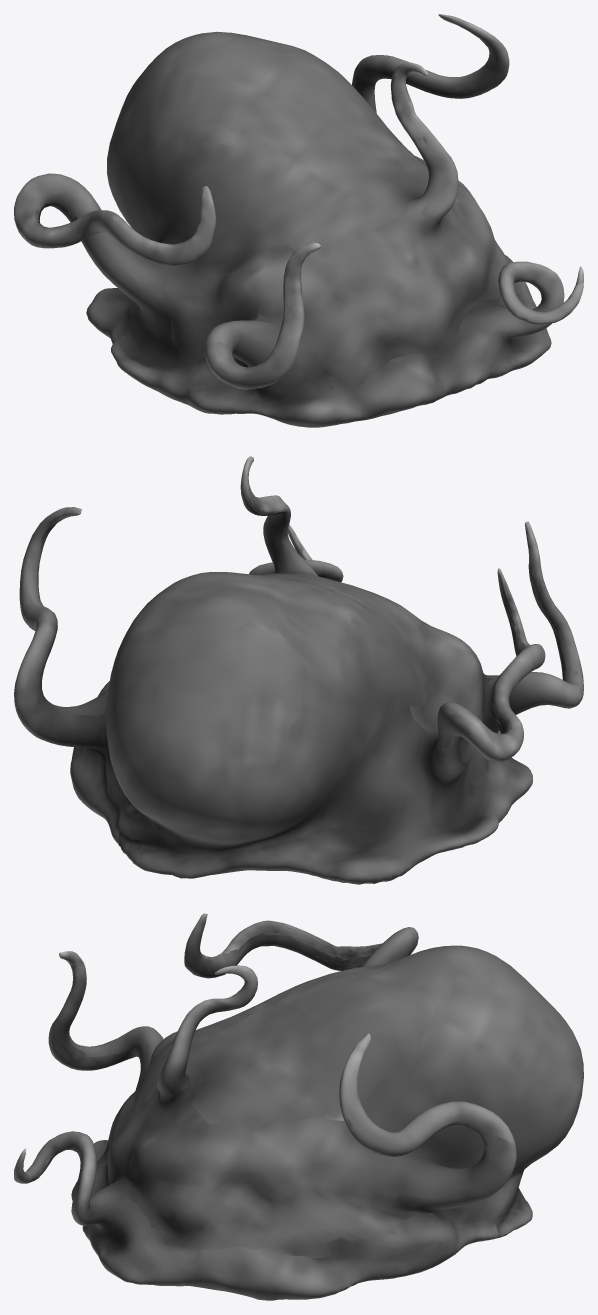
The model's file is MZ4250 - Psychic Grey Ooze 2025.glb.
3 views of the same model, one above another, from view 1: azimuth 30°, elevation 25°; view 2: azimuth 150°, elevation 25°; view 3: azimuth 270°, elevation 25° (orthographic). The views are drawn at different scales.
Parts seen in each view (by area): view 1: ORGANIC BASE SPHERE.001; view 2: ORGANIC BASE SPHERE.001; view 3: ORGANIC BASE SPHERE.001.
Boxes of the visible parts, x1,y1,x2,y2 form: ORGANIC BASE SPHERE.001: [14, 14, 583, 427]; ORGANIC BASE SPHERE.001: [14, 456, 583, 884]; ORGANIC BASE SPHERE.001: [14, 913, 583, 1300].
Size of the model in its own units: 75.96 by 43.5 by 77.09.
Materials: 1 (1 with a texture image).
